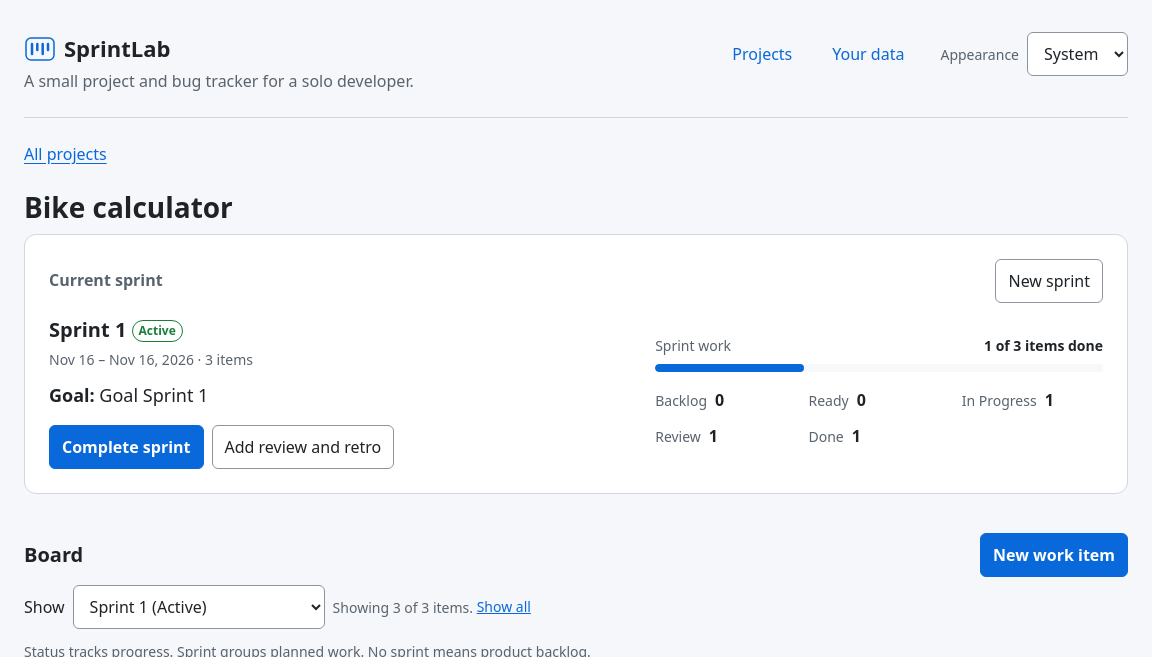
Test: Completing a sprint › moves unfinished items to the next planned sprint when chosen
The width and height of the screenshot is (1152, 657).
Click the button with aria-label "Complete Sprint 1" at {"x": 126, "y": 447}, box [49, 425, 204, 469]
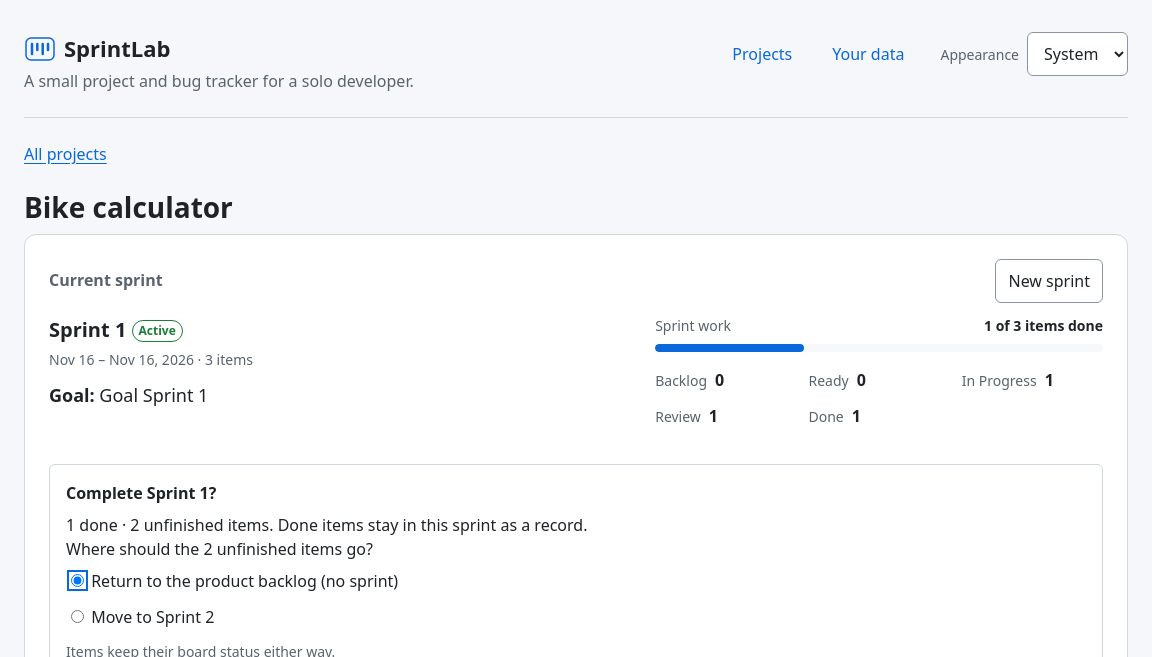
Click the radio button labelled "Move to Sprint 2" at {"x": 78, "y": 616}, box [71, 610, 84, 623]
(page scrolled)
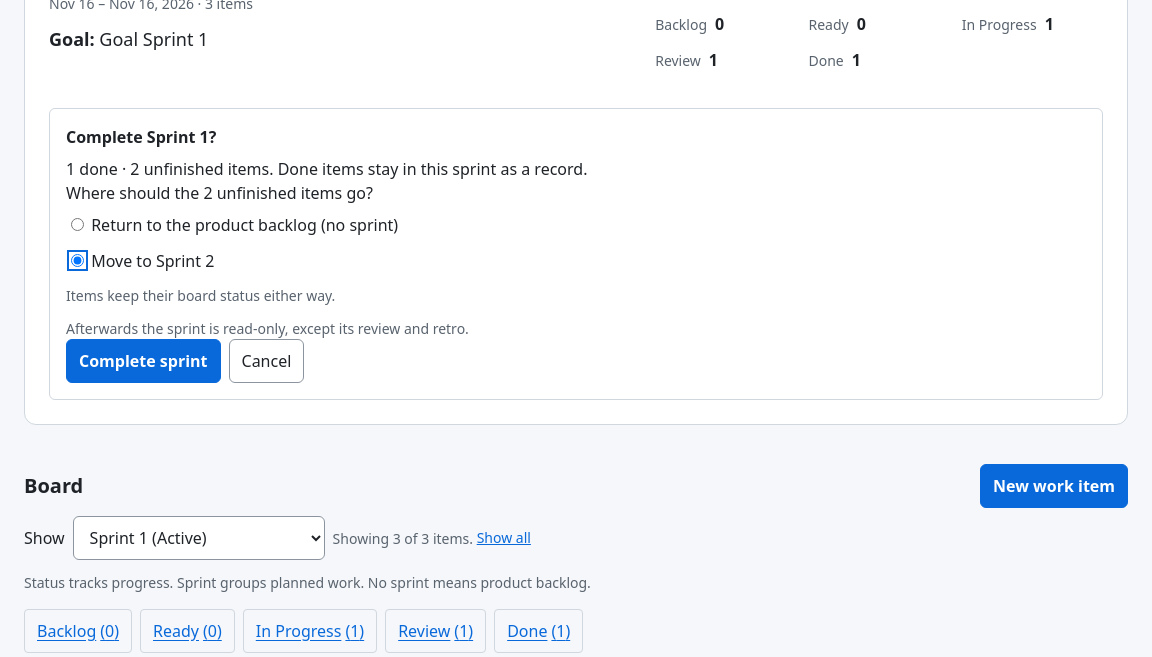
Click the button "Complete sprint" at {"x": 143, "y": 361}, box [66, 339, 220, 383]
(page scrolled)
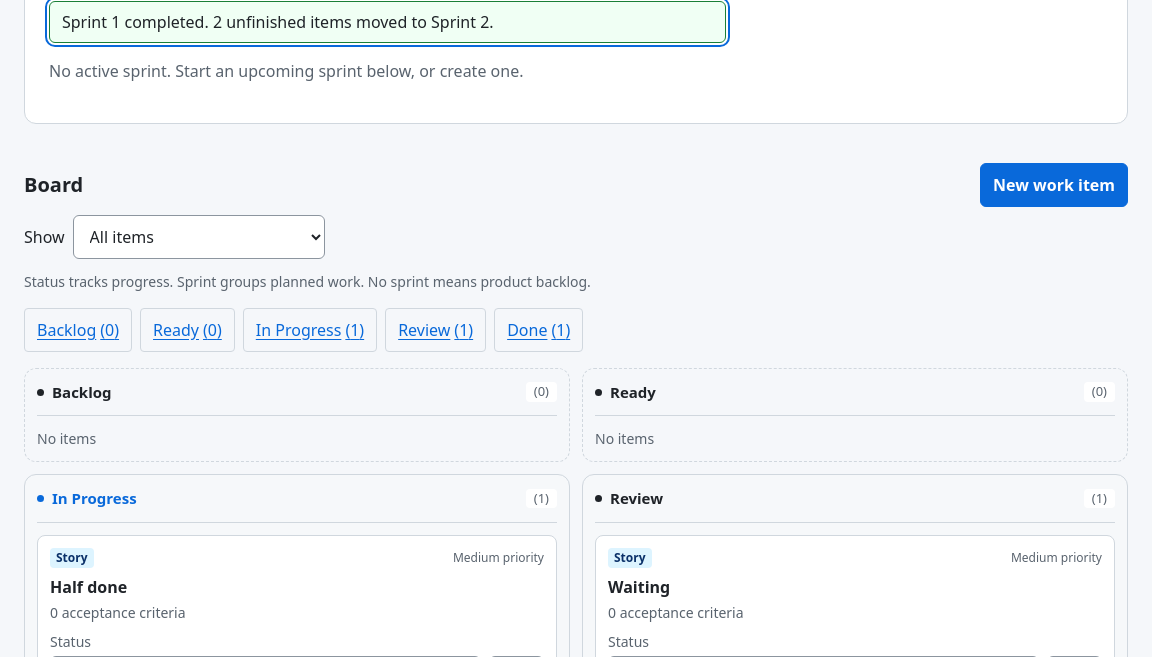
expect the message shows "2 unfinished items moved to Sprint 2.": met, box [62, 11, 494, 33]
